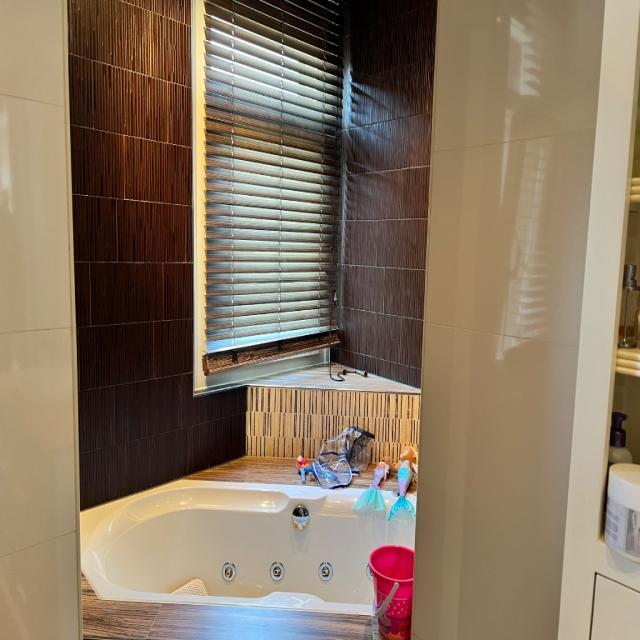bath: (80, 478, 416, 614)
